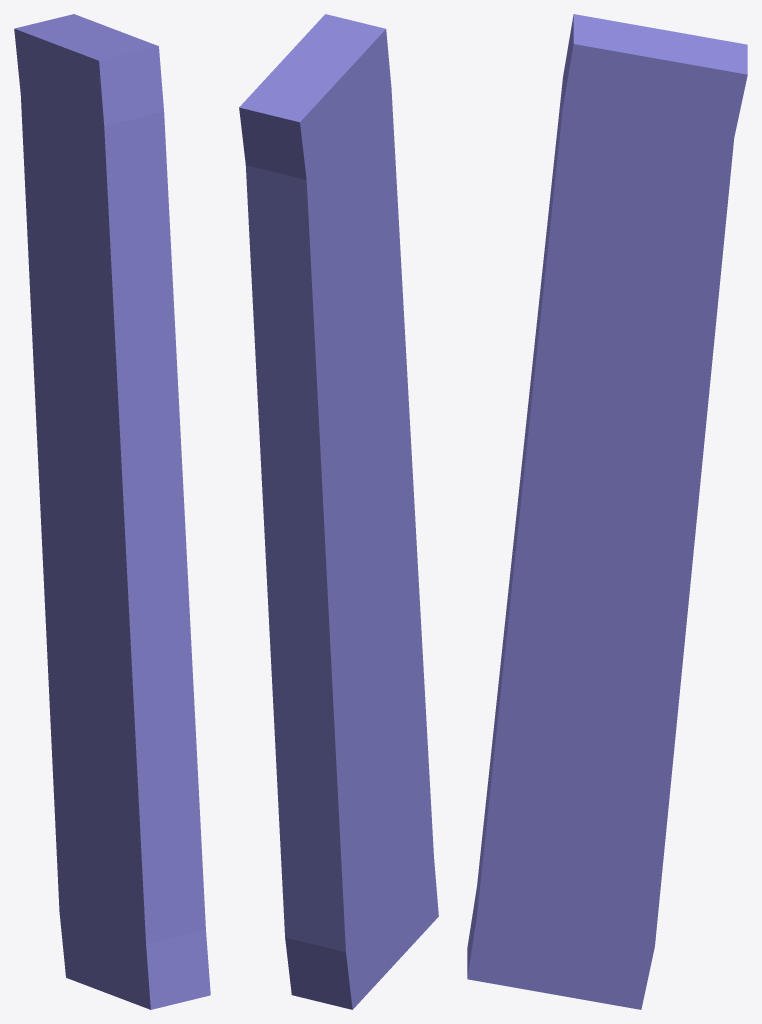
Rendered from Pinball_Screen_L.fbx.
The picture shows the model from 3 angles, left to right: view 1: azimuth 30°, elevation 25°; view 2: azimuth 150°, elevation 25°; view 3: azimuth 270°, elevation 25°; orthographic projection. The views are drawn at different scales.
Parts seen in each view (by area): view 1: Pinball_Screen_L; view 2: Pinball_Screen_L; view 3: Pinball_Screen_L.
Boxes of the visible parts, x1,y1,x2,y2 form: Pinball_Screen_L: (14, 14, 210, 1009); Pinball_Screen_L: (239, 14, 438, 1009); Pinball_Screen_L: (467, 14, 747, 1009).
Size of the model in its own units: 40 by 601 by 158.
